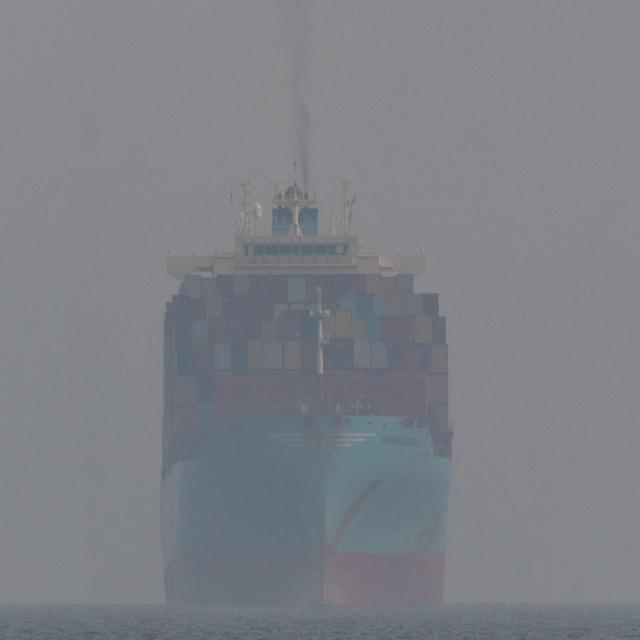cargoship: (148, 169, 462, 610)
